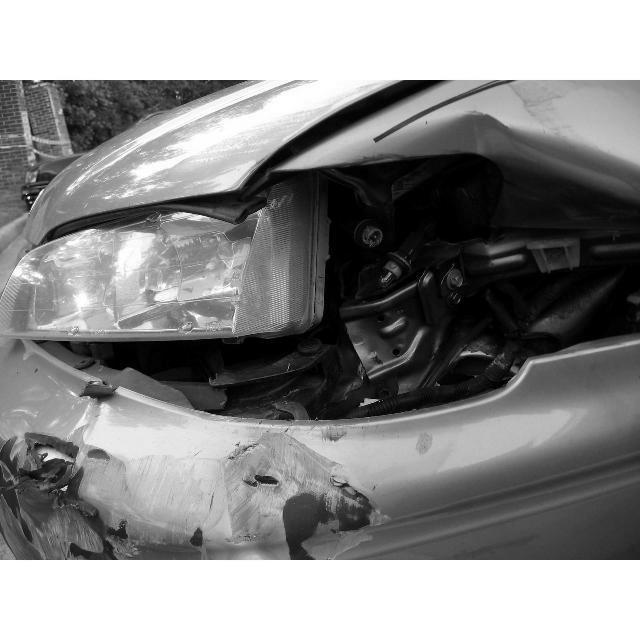Headlight-damage: (40, 150, 584, 447)
front-bumper-dent: (15, 415, 441, 559)
